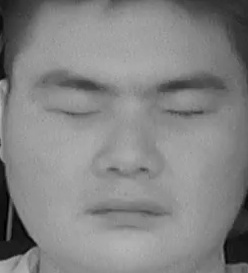blink: (43, 88, 99, 128), (167, 92, 209, 128)
mouth: (81, 186, 172, 237)
